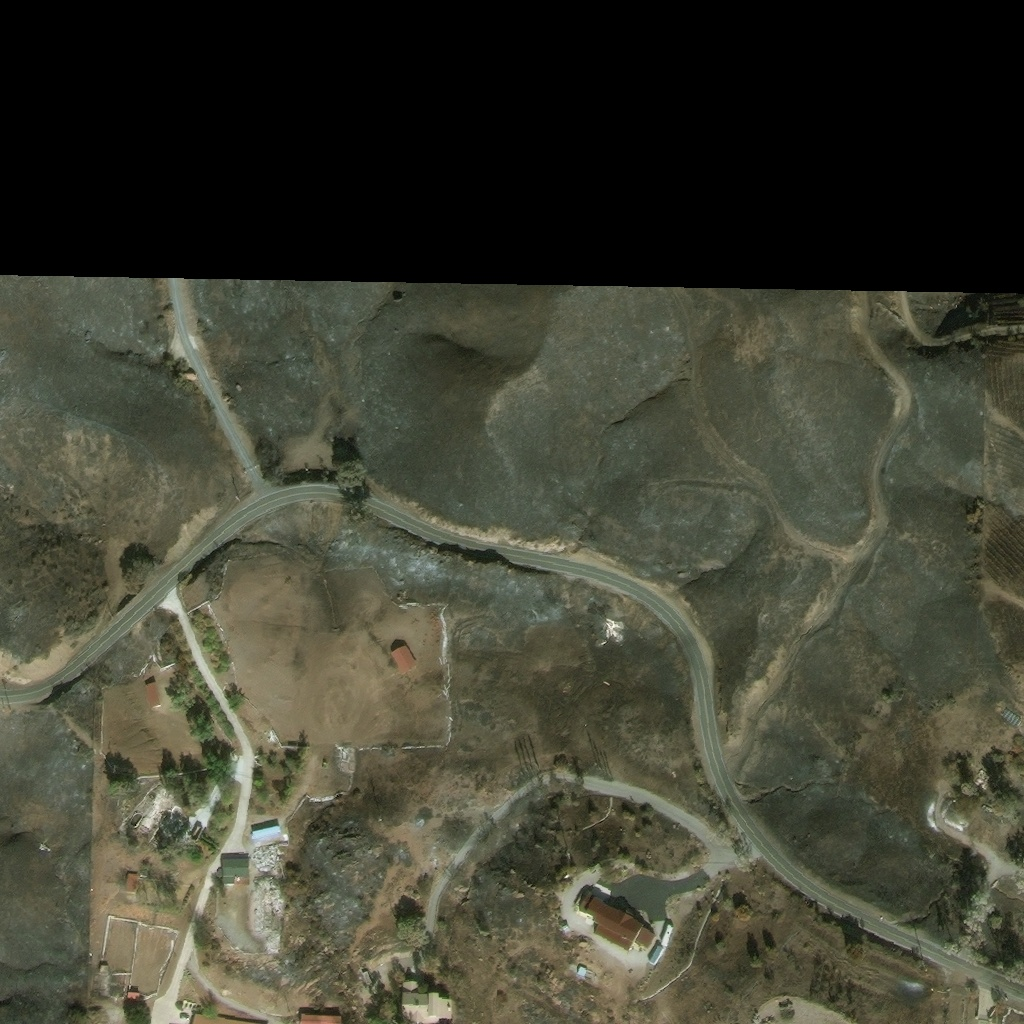0 no-damage: (575, 893, 655, 954), (220, 855, 248, 885), (390, 644, 417, 673), (191, 1012, 256, 1023), (294, 1013, 341, 1023), (145, 682, 162, 709), (125, 874, 136, 894), (575, 967, 587, 979), (128, 992, 139, 1000)
1 minor-damage: (400, 980, 451, 1023)
2 major-damage: (92, 964, 128, 999), (356, 970, 372, 987)
3 destroyed: (123, 789, 183, 836), (253, 876, 280, 952), (252, 840, 279, 872), (342, 746, 356, 769)
4 un-classified: (970, 767, 989, 789)
